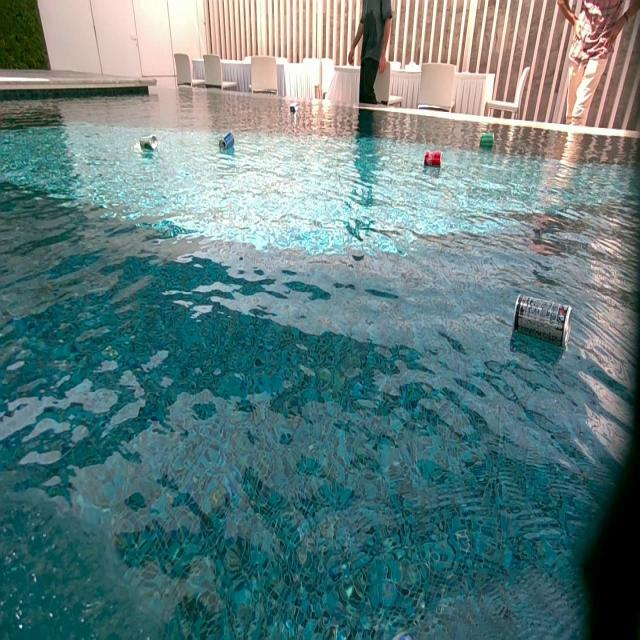Cans: (512, 293, 576, 348), (140, 134, 158, 152), (423, 153, 440, 169), (220, 133, 235, 150), (481, 132, 495, 145), (290, 102, 298, 112)
